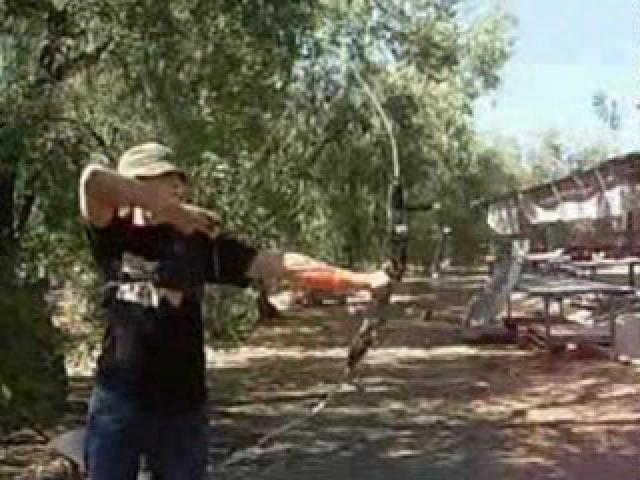I: (52, 124, 384, 480)
